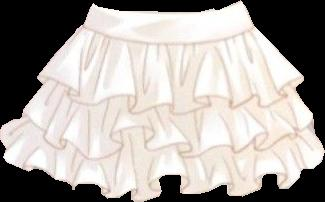Hemline: (0, 125, 324, 201), (21, 111, 314, 159), (36, 75, 304, 114)
Waistline: (81, 0, 256, 45)
